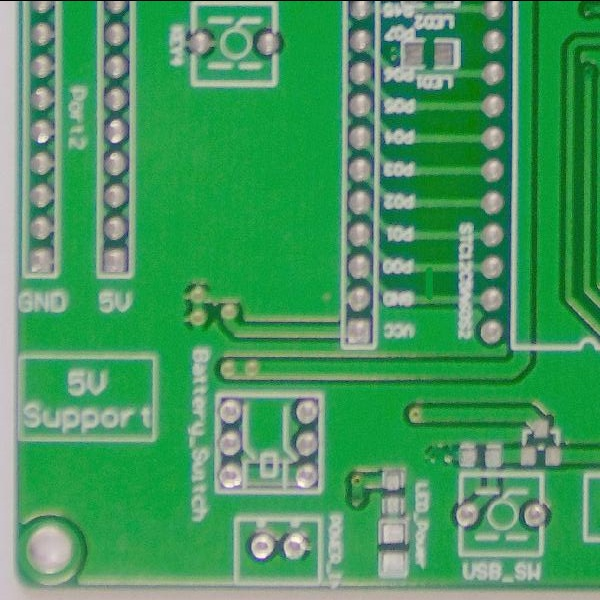short: (406, 257, 447, 307)
